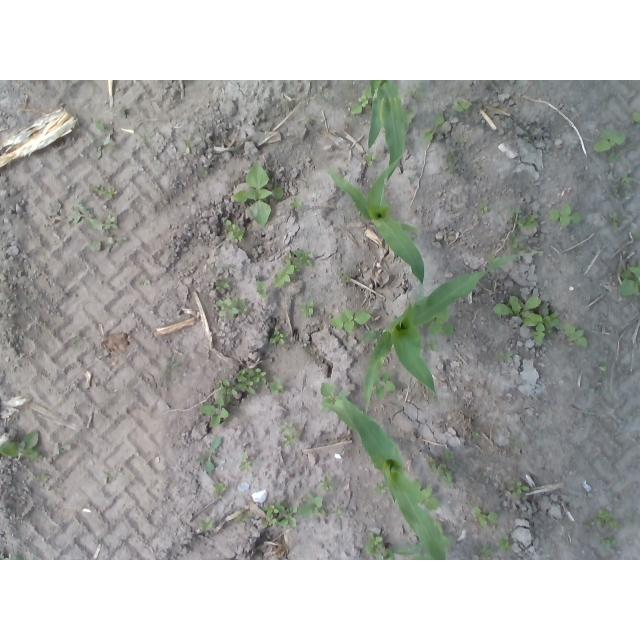Maize: (364, 250, 544, 410), (327, 386, 450, 560), (323, 150, 426, 298), (367, 80, 408, 182), (375, 538, 425, 560)
Weeds: (231, 164, 273, 228), (199, 380, 237, 429), (493, 293, 544, 327), (275, 249, 313, 287), (1, 432, 40, 460), (329, 308, 372, 333), (260, 500, 298, 528), (594, 130, 626, 163), (427, 451, 456, 486), (615, 259, 640, 298), (321, 383, 352, 414), (234, 367, 267, 396), (195, 438, 222, 473), (363, 532, 395, 560), (412, 480, 440, 511), (427, 307, 455, 338), (91, 122, 112, 161), (548, 205, 581, 228), (71, 206, 101, 231), (215, 297, 247, 319), (563, 321, 590, 347), (433, 520, 453, 553), (299, 492, 325, 517), (370, 373, 395, 399), (350, 88, 373, 115), (540, 307, 561, 334), (593, 508, 621, 528), (611, 174, 633, 199), (424, 115, 444, 141), (473, 506, 498, 526), (225, 219, 245, 242), (280, 422, 298, 446), (91, 183, 118, 198), (508, 481, 529, 500), (88, 237, 115, 251), (508, 231, 525, 253), (407, 82, 425, 102), (238, 453, 258, 471), (533, 324, 548, 346), (504, 203, 521, 222), (268, 331, 288, 346), (516, 215, 539, 228), (496, 534, 512, 552), (300, 301, 315, 320), (448, 153, 460, 175), (255, 279, 268, 299), (478, 544, 494, 560), (403, 108, 414, 131), (269, 377, 283, 395), (103, 214, 118, 230), (608, 212, 622, 229), (53, 442, 72, 454), (287, 197, 303, 211), (214, 482, 227, 498), (201, 519, 216, 532), (372, 482, 388, 494), (321, 476, 334, 490), (362, 152, 376, 165), (456, 100, 471, 112), (234, 511, 250, 522), (270, 187, 283, 200), (166, 358, 179, 371), (215, 280, 229, 292), (183, 139, 194, 154), (1, 553, 24, 560), (487, 252, 499, 265), (318, 93, 332, 104), (479, 202, 489, 215), (601, 538, 616, 546), (498, 353, 514, 360), (632, 111, 640, 124), (427, 341, 437, 351), (526, 133, 535, 144), (342, 274, 351, 283), (333, 508, 343, 516), (472, 432, 480, 440), (598, 365, 607, 372), (460, 139, 469, 144), (37, 475, 42, 481)
